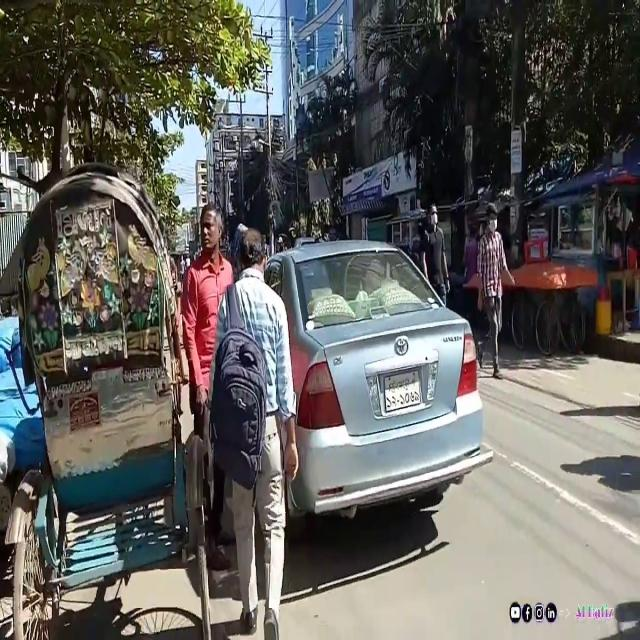silver: (252, 246, 493, 540)
